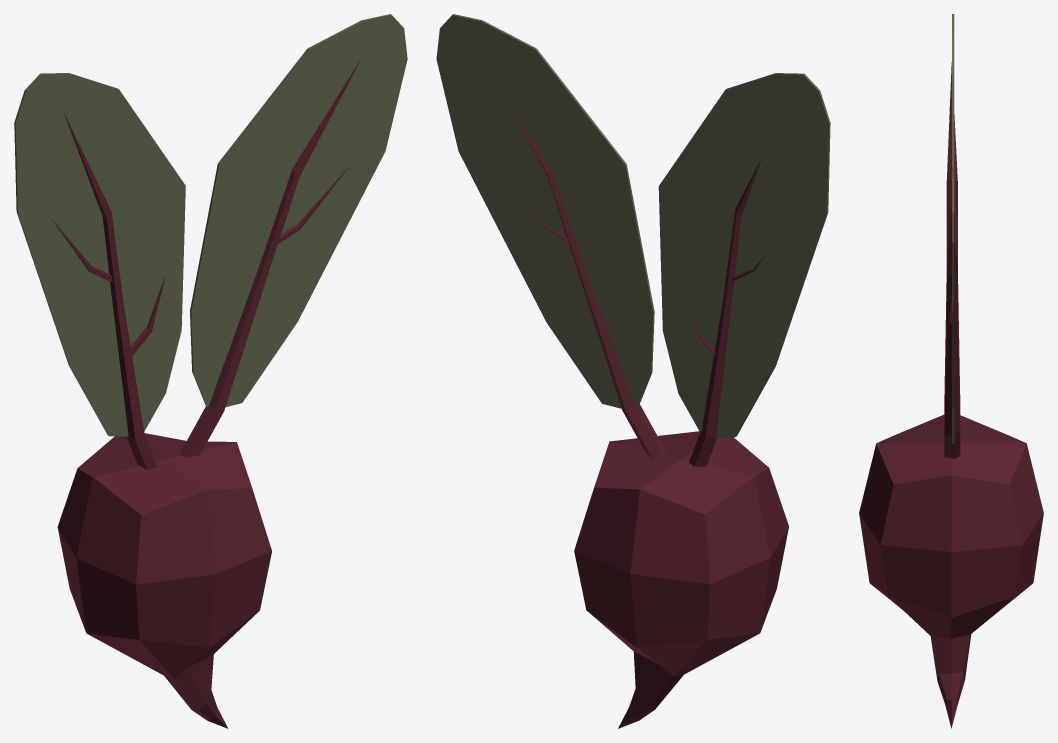
The model's file is beet_3.gltf.
3 views of the same model, side by side, from view 1: azimuth 30°, elevation 25°; view 2: azimuth 150°, elevation 25°; view 3: azimuth 270°, elevation 25° (orthographic). The views are drawn at different scales.
Parts seen in each view (by area): view 1: beet_3; view 2: beet_3; view 3: beet_3.
Boxes of the visible parts, box(x1,y1,x2,y2) form: beet_3: box(14, 14, 407, 728); beet_3: box(436, 14, 830, 728); beet_3: box(859, 14, 1043, 728).
Size of the model in its own units: 0.5093 by 0.8688 by 0.23.
1 material, 1 textured.
